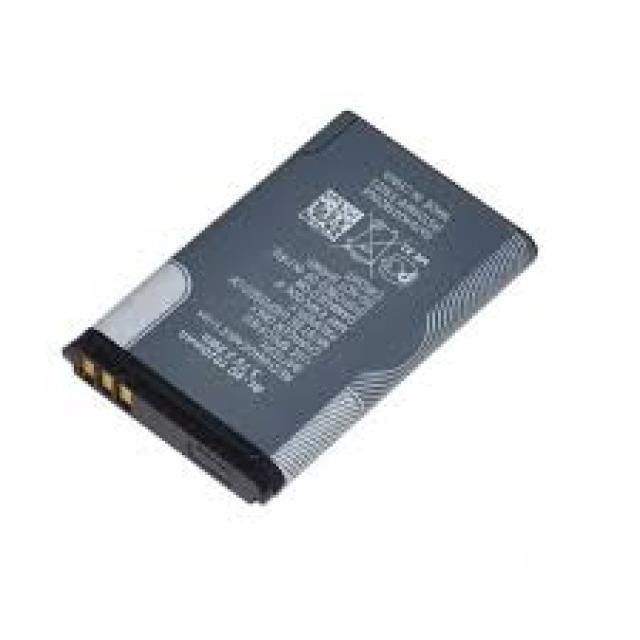Battery: (57, 86, 590, 521)
